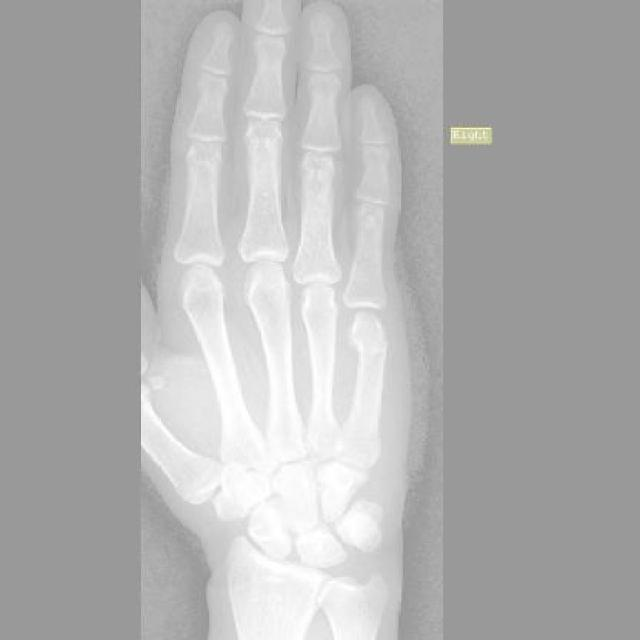Fracture: (350, 328, 393, 370)
